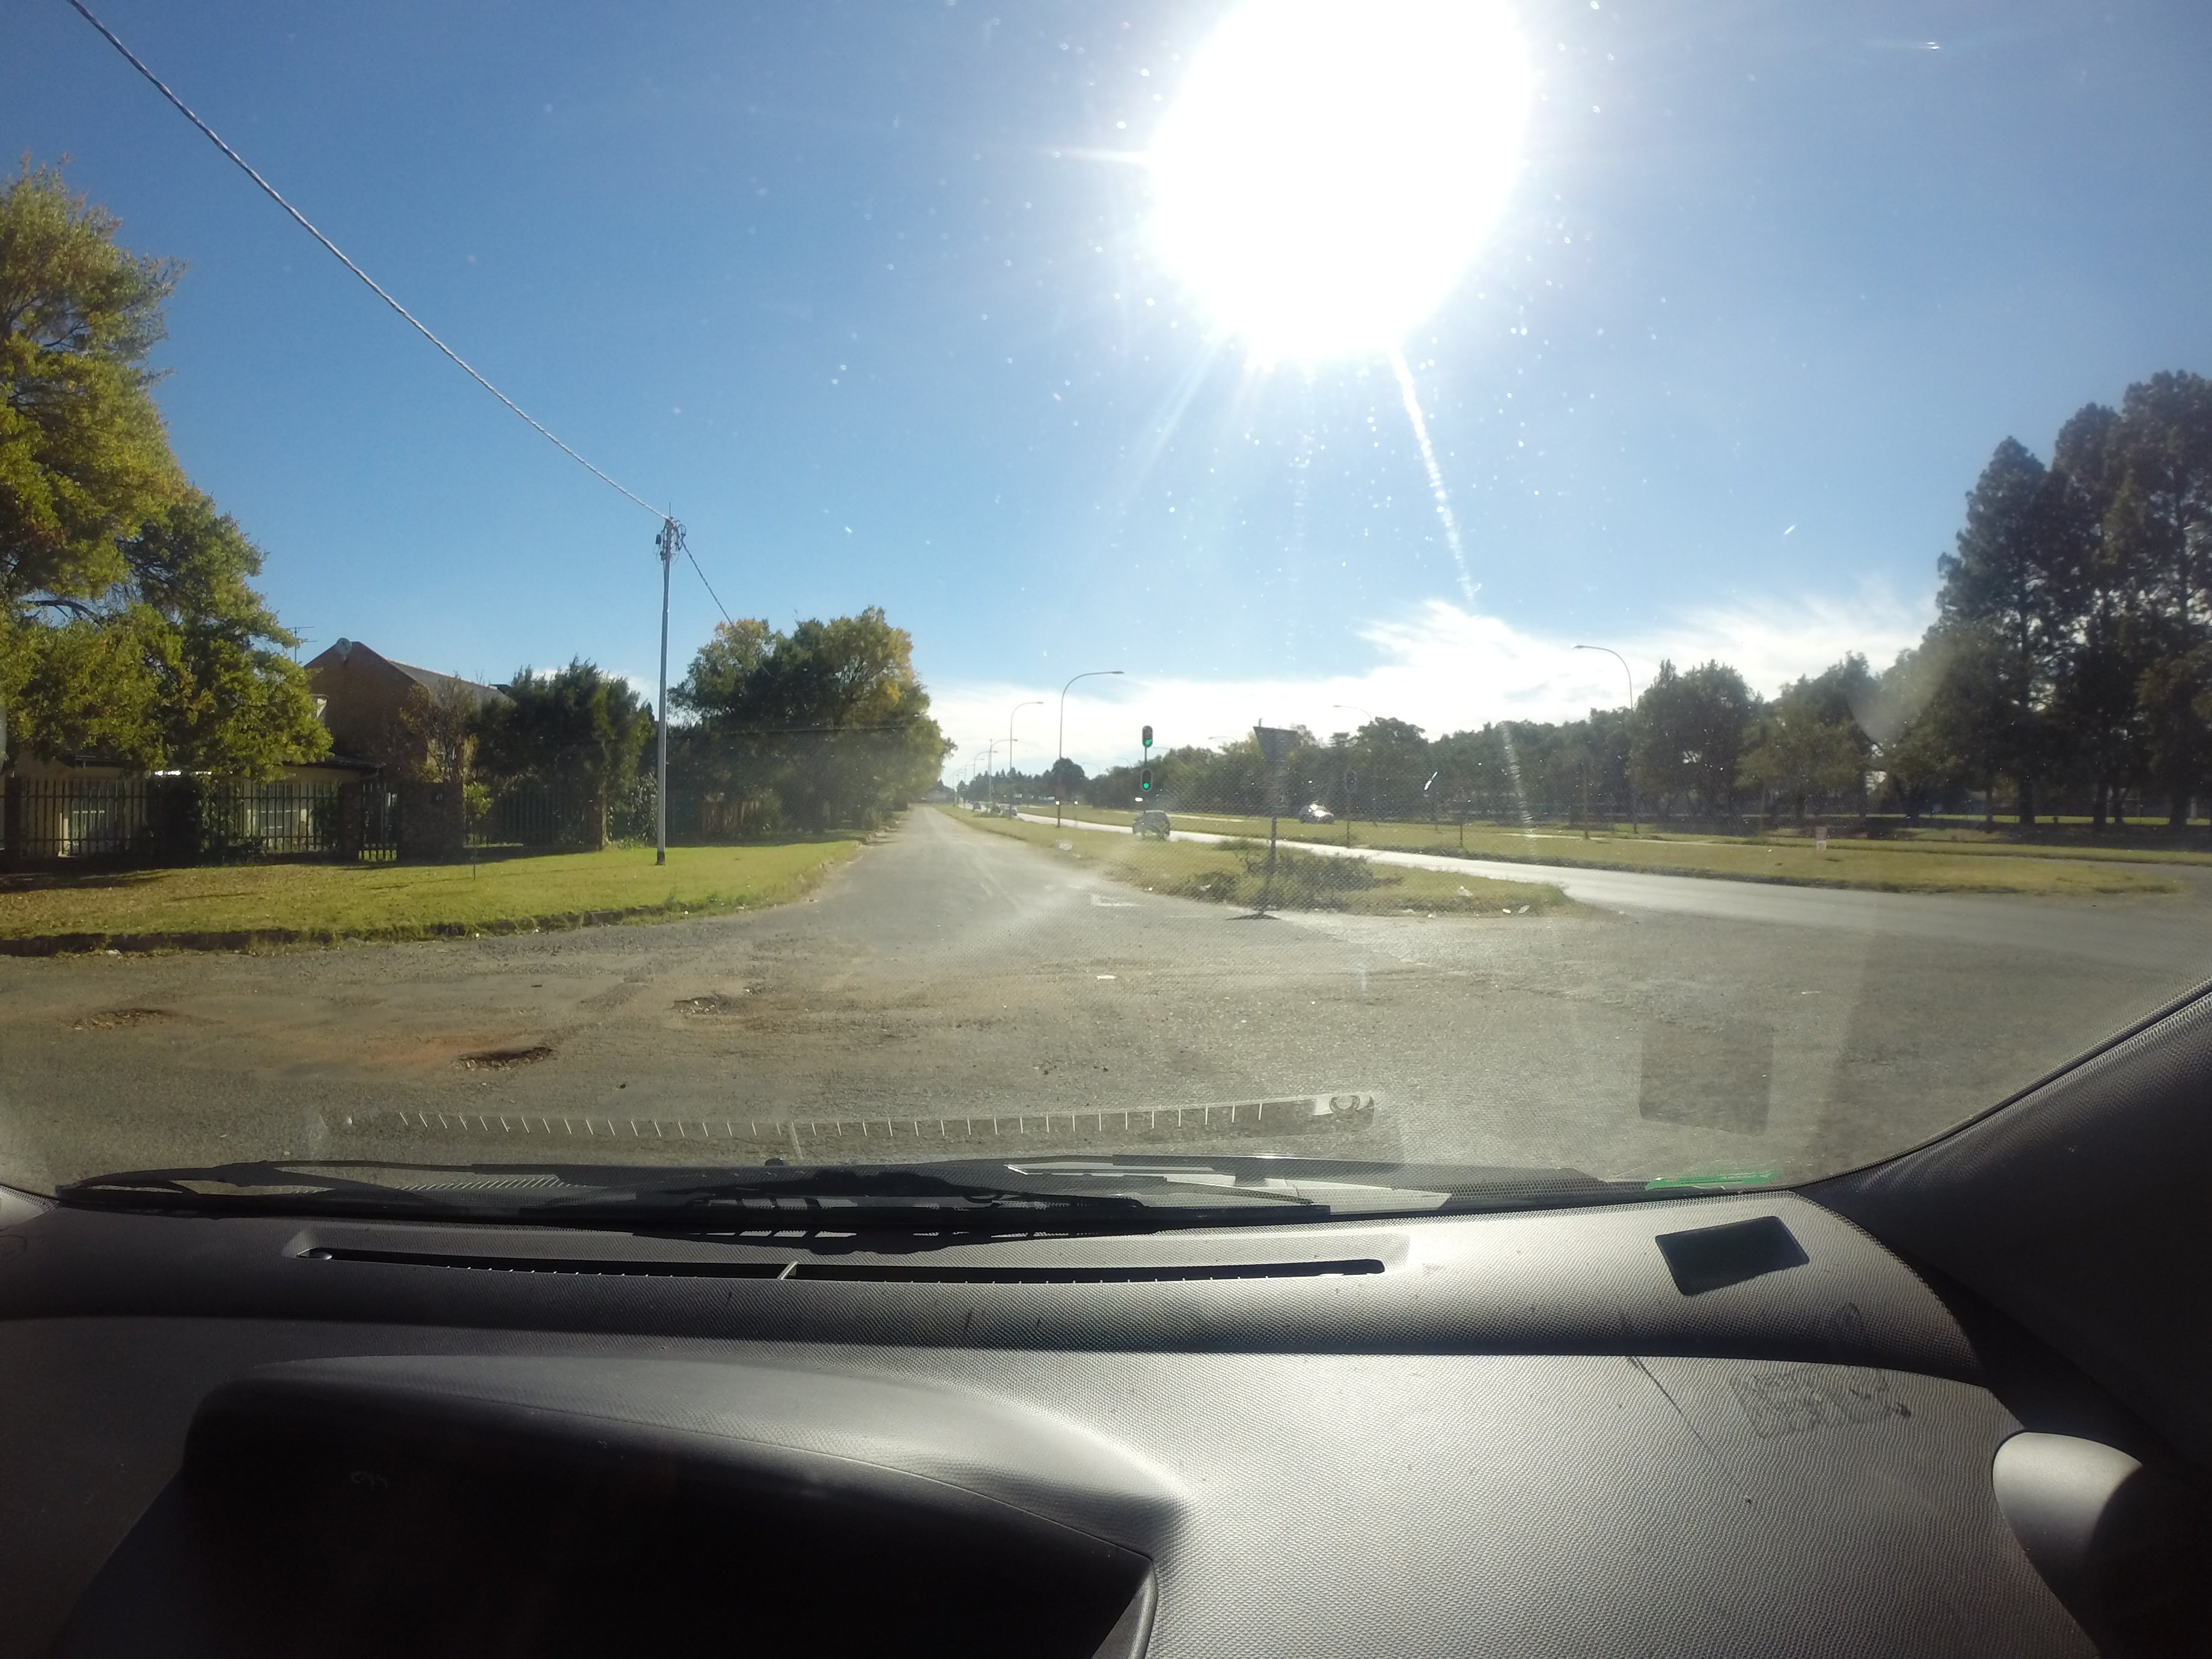pothole: (418, 985, 610, 1108)
